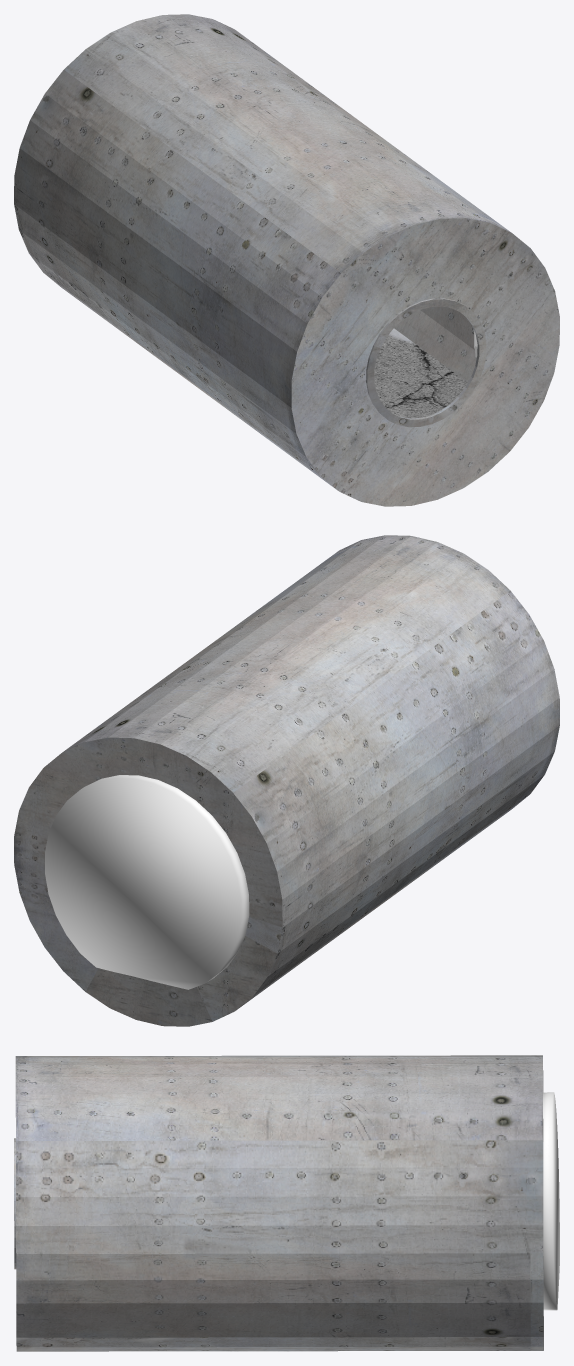
Rendered from Quarterjustroom.glb.
3 renders of one model, top to bottom at view 1: azimuth 30°, elevation 25°; view 2: azimuth 150°, elevation 25°; view 3: azimuth 270°, elevation 25°, orthographic. The views are drawn at different scales.
Parts seen in each view (by area): view 1: habitats; view 2: habitats, door; view 3: habitats, door.
Part boxes in pixels (x1,y1,x2,y2): habitats: [14, 14, 559, 506]; habitats: [14, 535, 559, 1026]; door: [45, 775, 249, 989]; habitats: [14, 1055, 543, 1351]; door: [543, 1092, 559, 1310].
Size of the model in its own units: 7.31 by 7.33 by 13.54.
4 materials, 4 textured.
